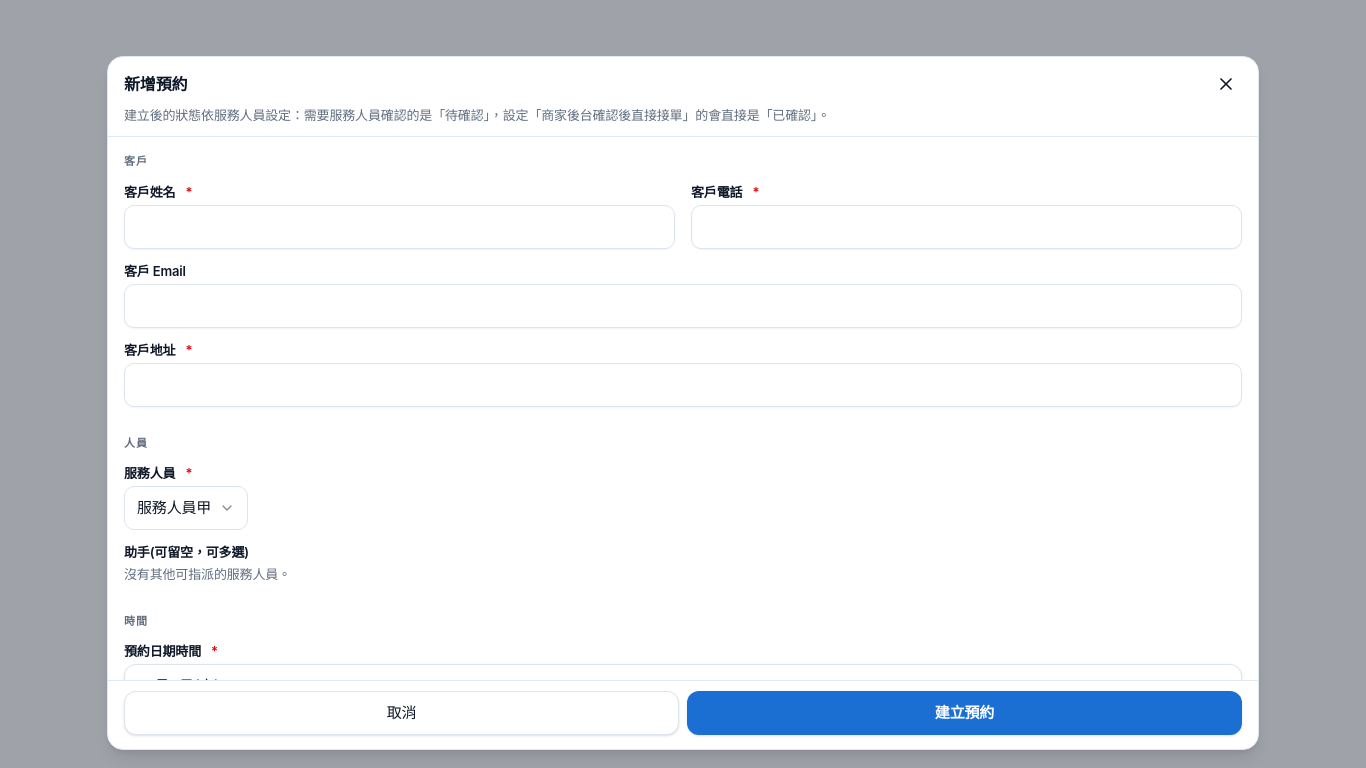
it: 建單表單 × 會員面板(#915 / #936) › #1013 狀態 C + 黑名單:清單那一位帶「黑名單」標籤,常駐 `!` 照舊
Type "0903222222" into the field with id "booking-customer-phone" at point(966, 227), box [691,205,1242,249]
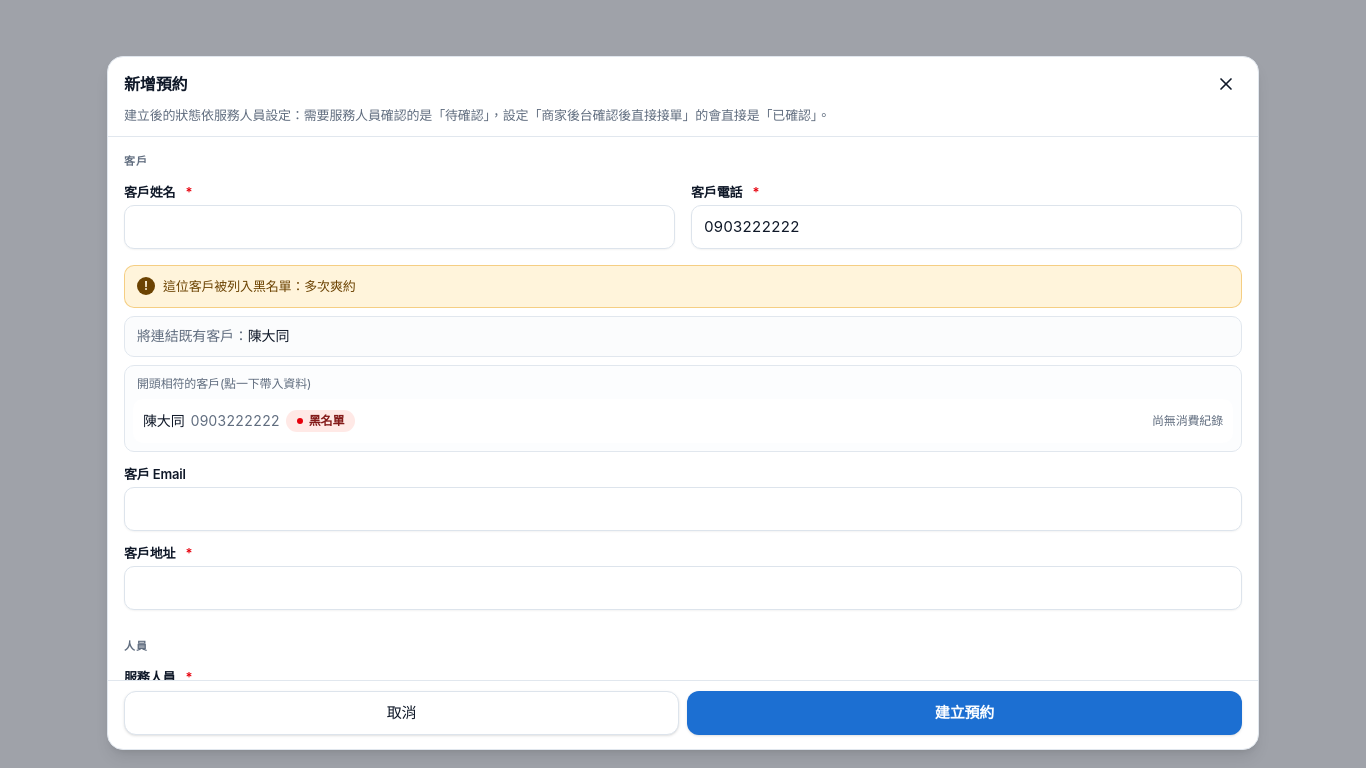
Expected: the button "陳大同 0903222222 黑名單 尚無消費紀錄" is shown
Expected: the element showing "! 這位客戶被列入黑名單：多次爽約" is shown, [124,265,1242,308]
Click the button "陳大同 0903222222 黑名單 尚無消費紀錄" at point(164, 420), box [133,399,1233,443]
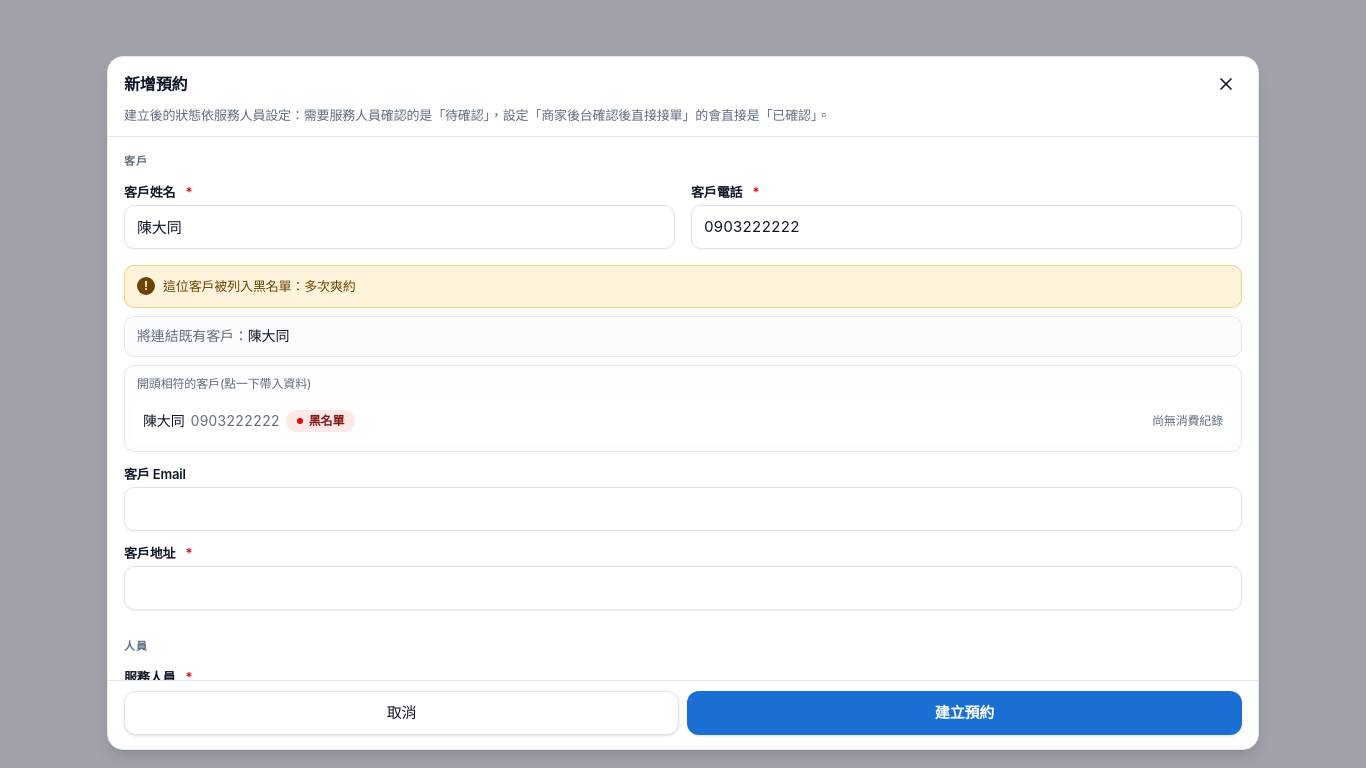
Expected: the field with id "booking-customer-name" holds "陳大同", [124,205,675,249]
